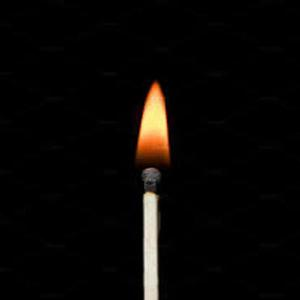fire: (128, 70, 177, 169)
